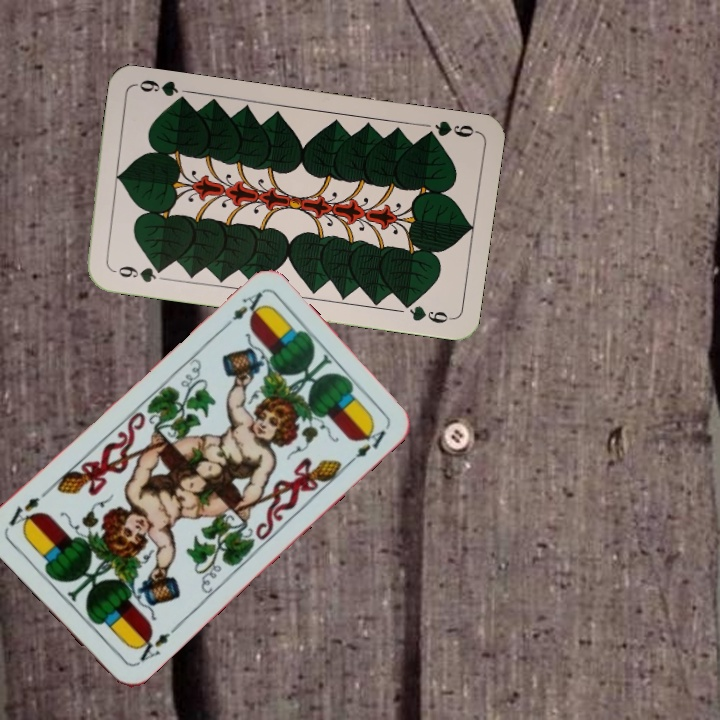EA: (130, 621, 180, 667), (217, 288, 266, 333)
G9: (419, 116, 479, 142), (107, 262, 167, 285)
